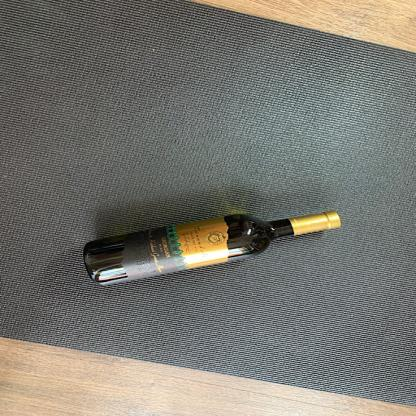trash: (78, 204, 341, 288)
